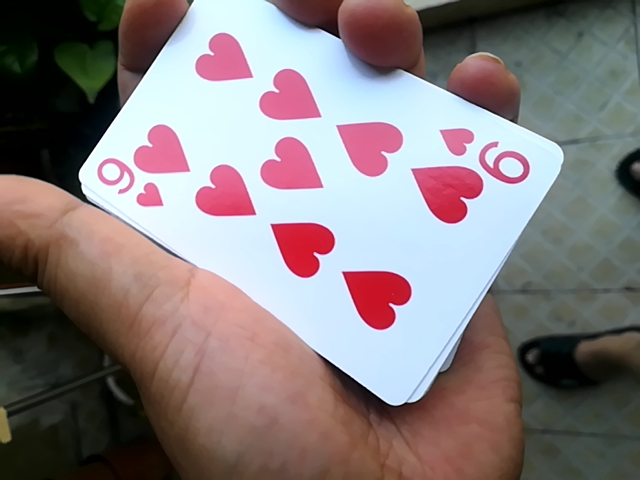hx 9: (74, 8, 565, 399)
